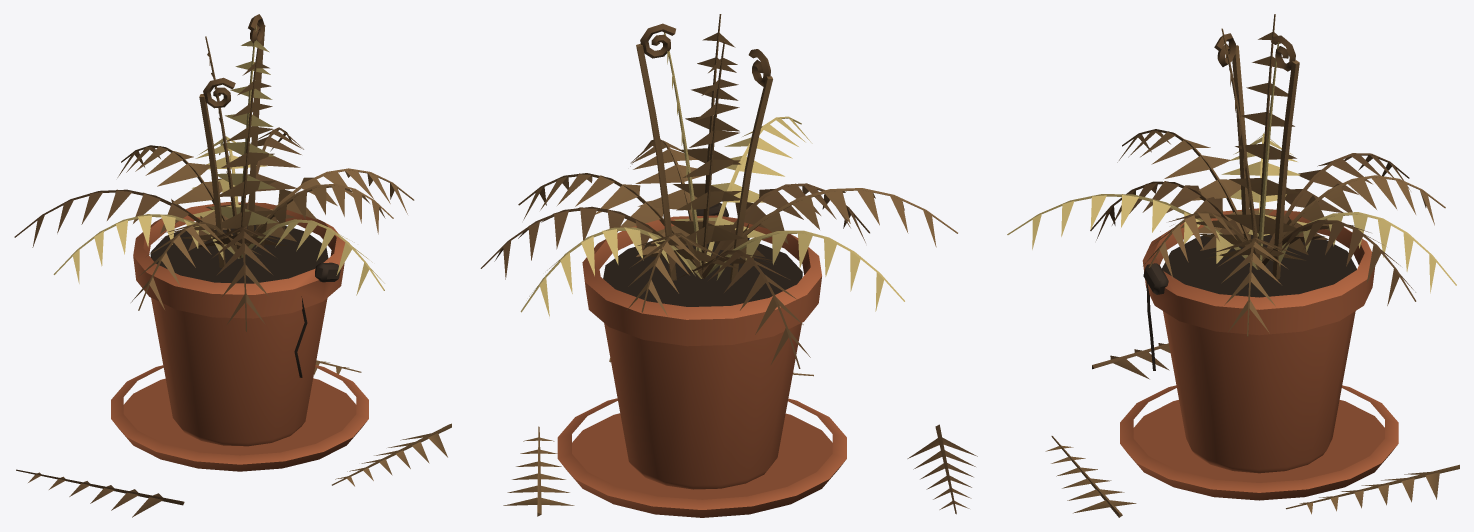
The model's file is plant_deadfern.glb.
3 renders of one model, left to right at view 1: azimuth 30°, elevation 25°; view 2: azimuth 150°, elevation 25°; view 3: azimuth 270°, elevation 25°, orthographic. The views are drawn at different scales.
Visible parts, largest first — view 1: plant_deadfern; view 2: plant_deadfern; view 3: plant_deadfern.
Part boxes in pixels (<box>): plant_deadfern: <box>14,14,451,517</box>; plant_deadfern: <box>480,14,977,517</box>; plant_deadfern: <box>1007,14,1459,517</box>.
Bounding box in the file's own units: 0.8887 × 0.8484 × 0.8155.
